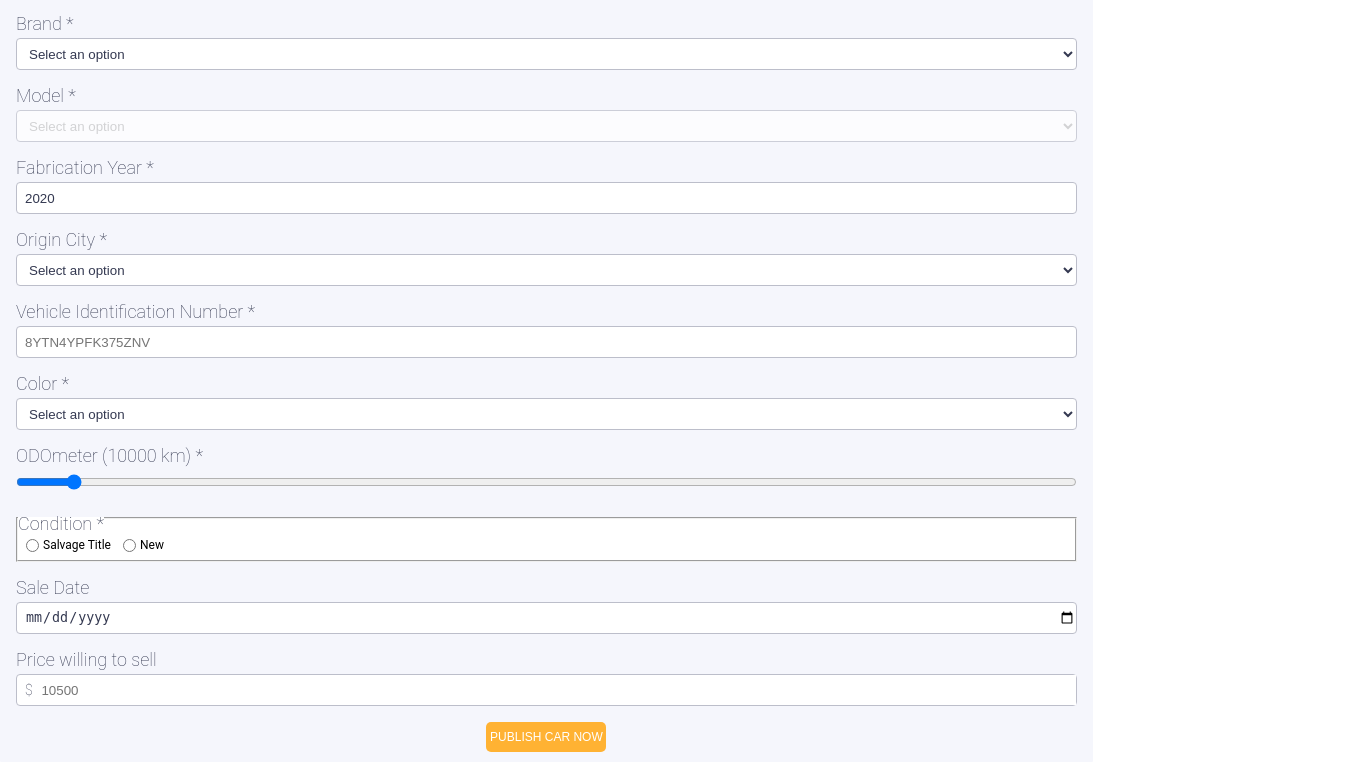
Test case: Publish Form › should show validation messages on submitting empty inputs
(page scrolled)
What coordinates should you click on to do the following:
click the button
I would click on:
 (546, 737)
Its box is [486,722,606,752].
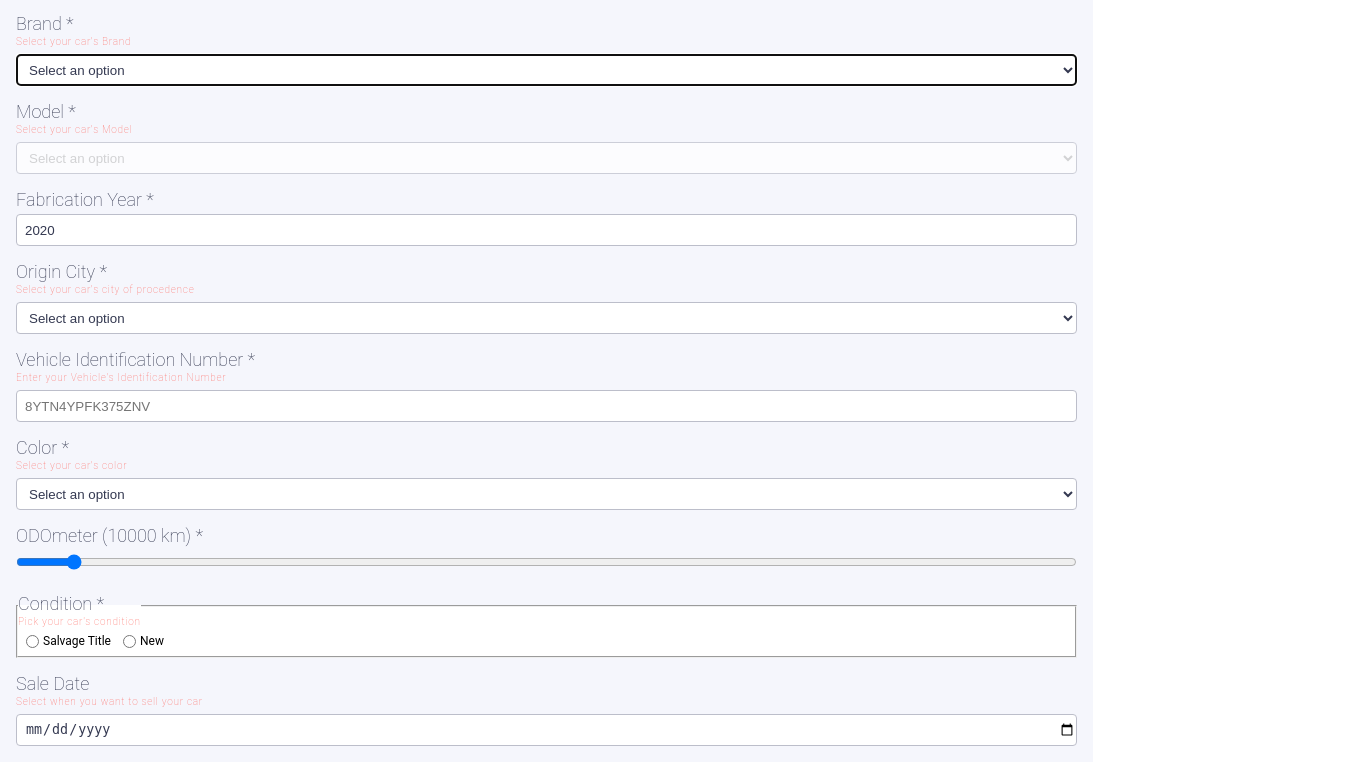
expect the text "Select your car's Brand" is shown: met, box [16,36,131,47]
expect the text "Select your car's Model" is shown: met, box [16,124,132,135]
